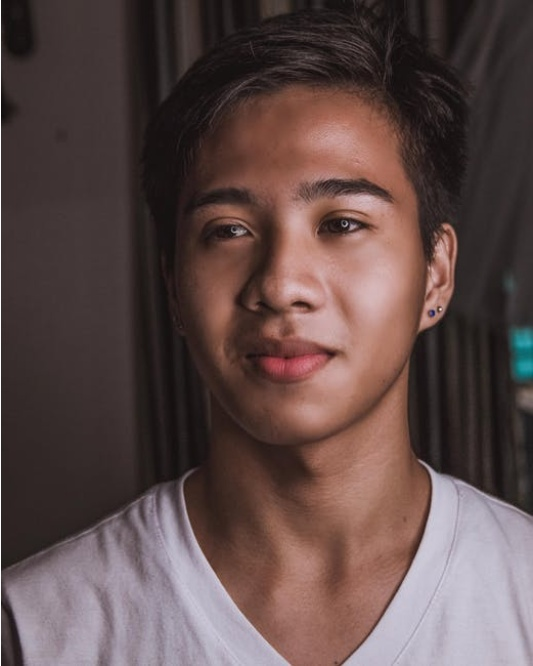face: (170, 91, 412, 445)
